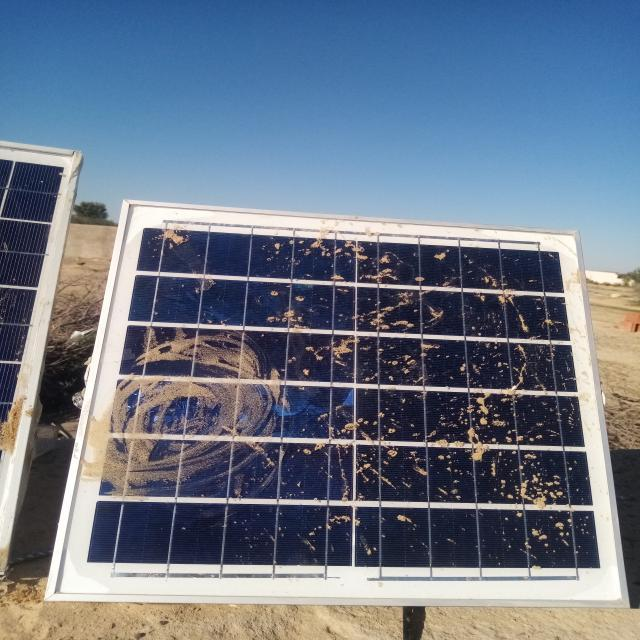faulty: (45, 202, 632, 606)
